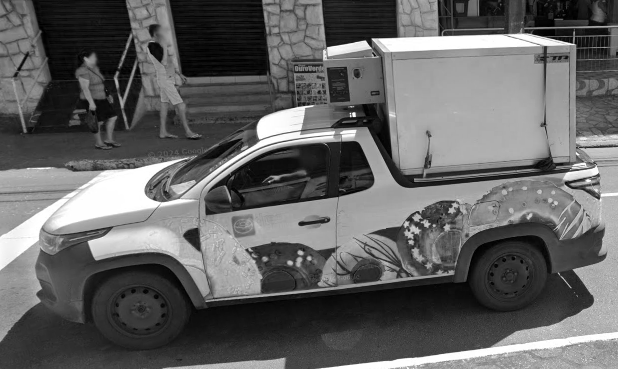car: (31, 102, 607, 352)
